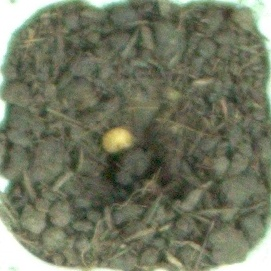pepper seed: (32, 48, 169, 205)
